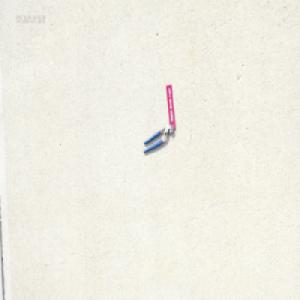Label: (165, 82, 176, 129)
Pliers: (142, 123, 174, 153)
